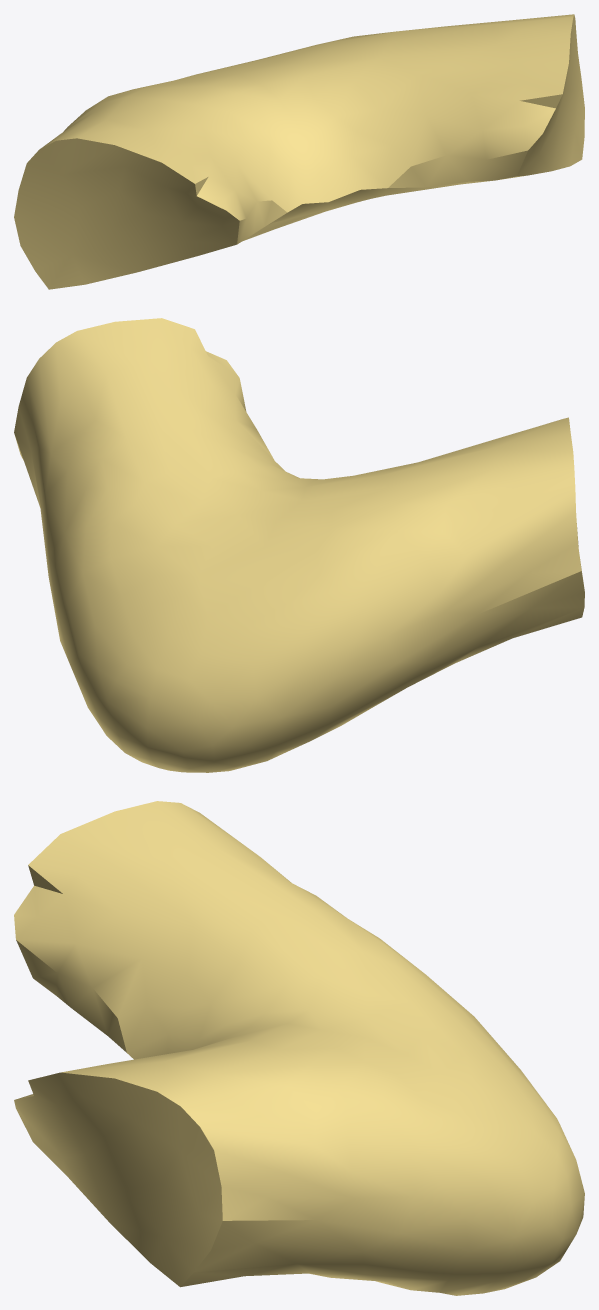
The model's file is fma62048_mm2845.glb.
3 views of the same model, one above another, from view 1: azimuth 30°, elevation 25°; view 2: azimuth 150°, elevation 25°; view 3: azimuth 270°, elevation 25° (orthographic). The views are drawn at different scales.
Visible parts, largest first — view 1: FMA62048_MM2845; view 2: FMA62048_MM2845; view 3: FMA62048_MM2845.
Part boxes in pixels (<box>): FMA62048_MM2845: <box>14,14,584,289</box>; FMA62048_MM2845: <box>14,318,584,772</box>; FMA62048_MM2845: <box>14,801,584,1295</box>.
Bounding box in the file's own units: 0.00513 × 0.00234 × 0.00373.
